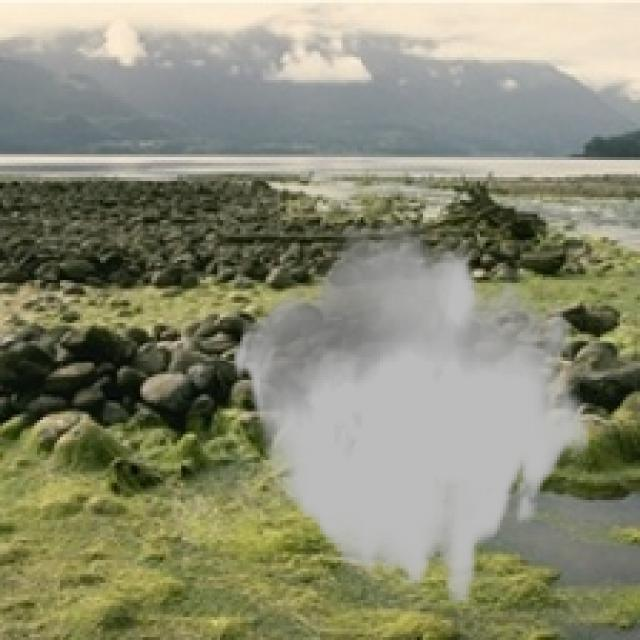smoke: (232, 223, 592, 603)
